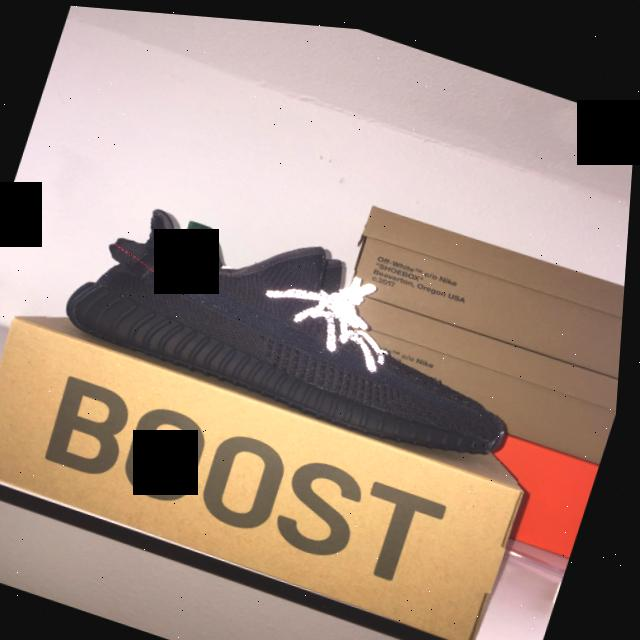shoe: (32, 143, 583, 499)
